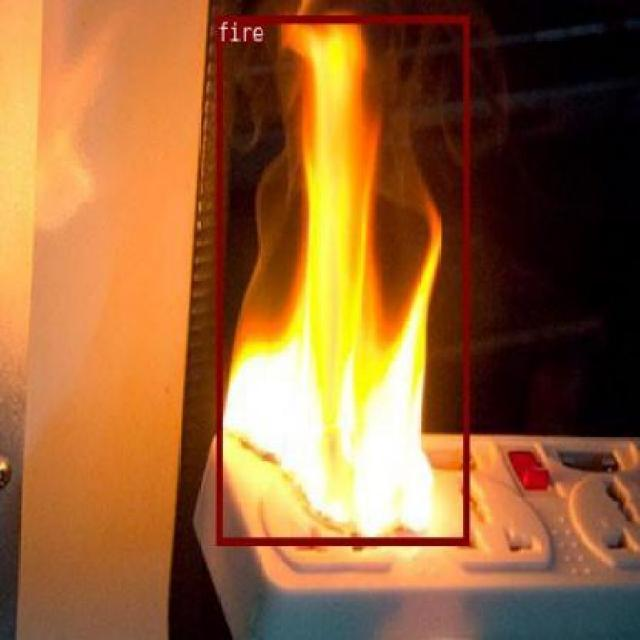Fire: (215, 13, 468, 544)
